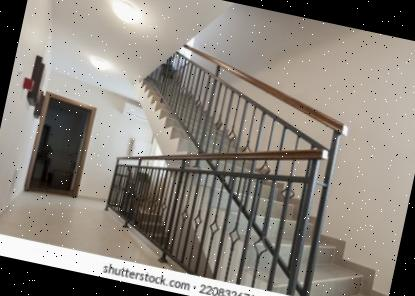stair: (225, 180, 384, 296)
